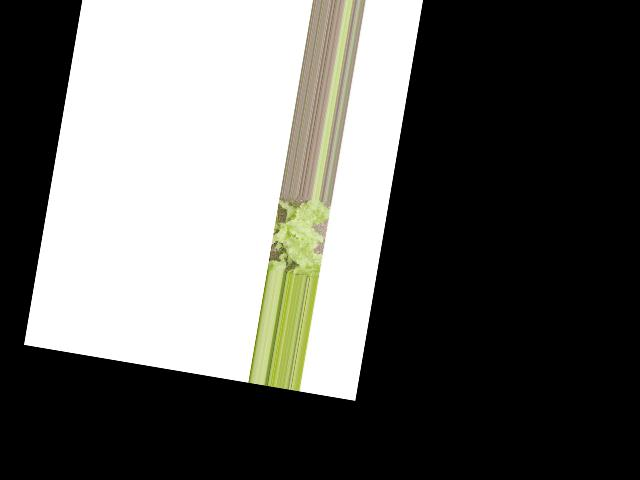lettuce: (263, 193, 329, 278)
